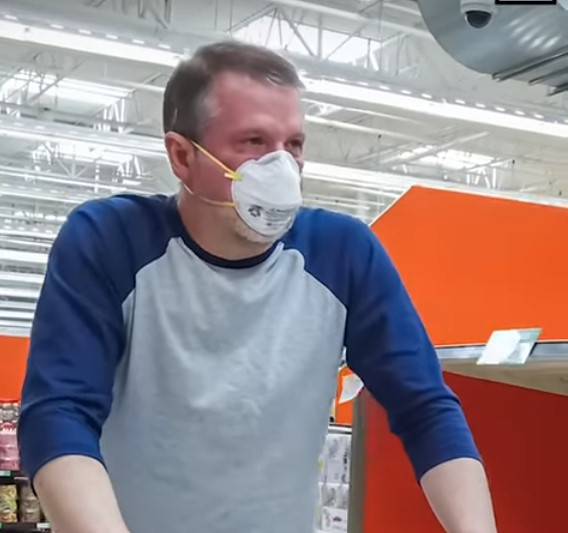face_with_mask: (163, 47, 308, 247)
